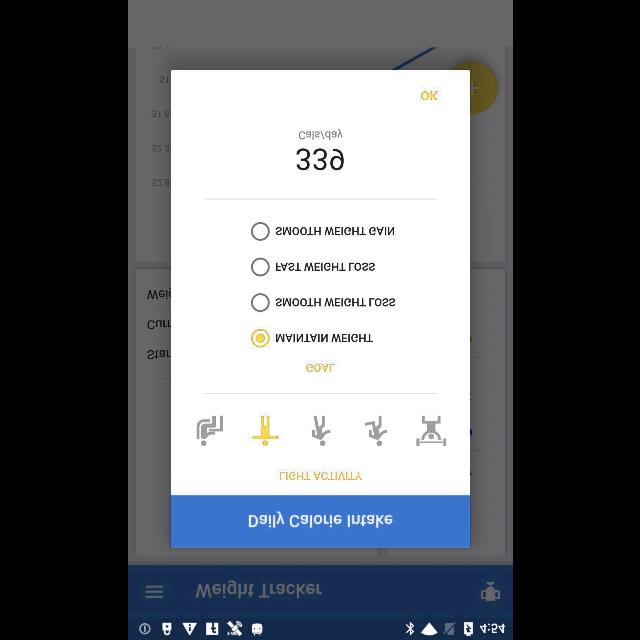checkbox: (250, 222, 270, 242), (251, 328, 269, 348), (250, 294, 268, 312), (251, 258, 269, 276)
icon: (480, 582, 500, 600), (144, 584, 162, 598)
image: (416, 416, 446, 446), (195, 416, 222, 446), (251, 416, 277, 446), (364, 416, 386, 446), (312, 416, 331, 446)
panel: (170, 70, 470, 548)
text: (248, 510, 392, 528), (195, 580, 321, 598), (295, 148, 343, 170), (275, 298, 395, 306), (274, 227, 394, 235), (276, 333, 372, 342), (276, 263, 374, 271), (278, 472, 362, 481), (298, 130, 342, 140), (306, 363, 334, 372), (420, 91, 438, 101)
uppertaskbar: (128, 617, 512, 639)
